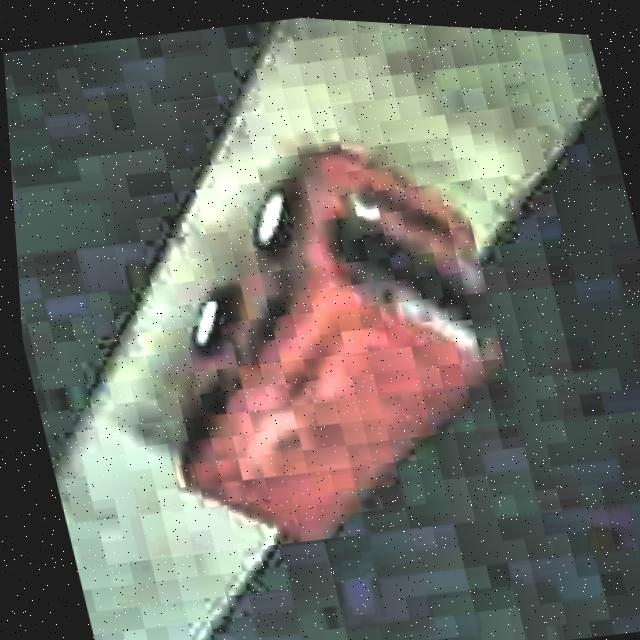bus: (105, 107, 544, 574)
